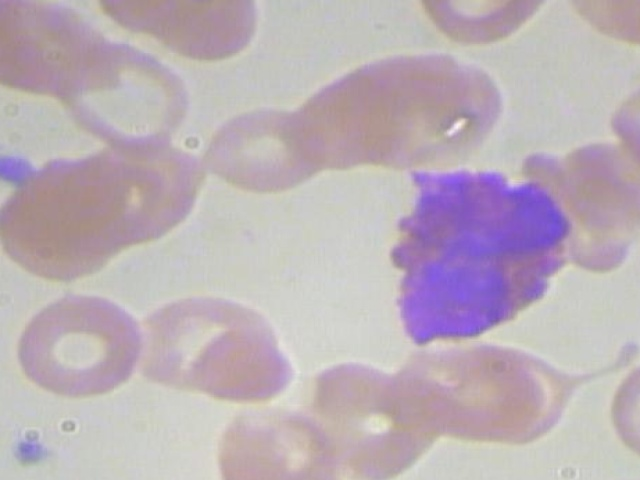Platelets: (0, 422, 56, 473), (0, 149, 42, 189)
RBC: (402, 338, 578, 449), (51, 39, 195, 159), (4, 287, 152, 402), (200, 102, 331, 194), (92, 0, 267, 65), (214, 400, 338, 480), (185, 321, 296, 400), (407, 0, 559, 48), (557, 0, 640, 61), (604, 351, 640, 466)
WBC: (369, 159, 586, 367)
